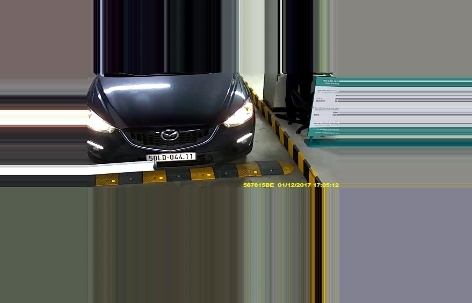plate: (145, 148, 198, 161)
